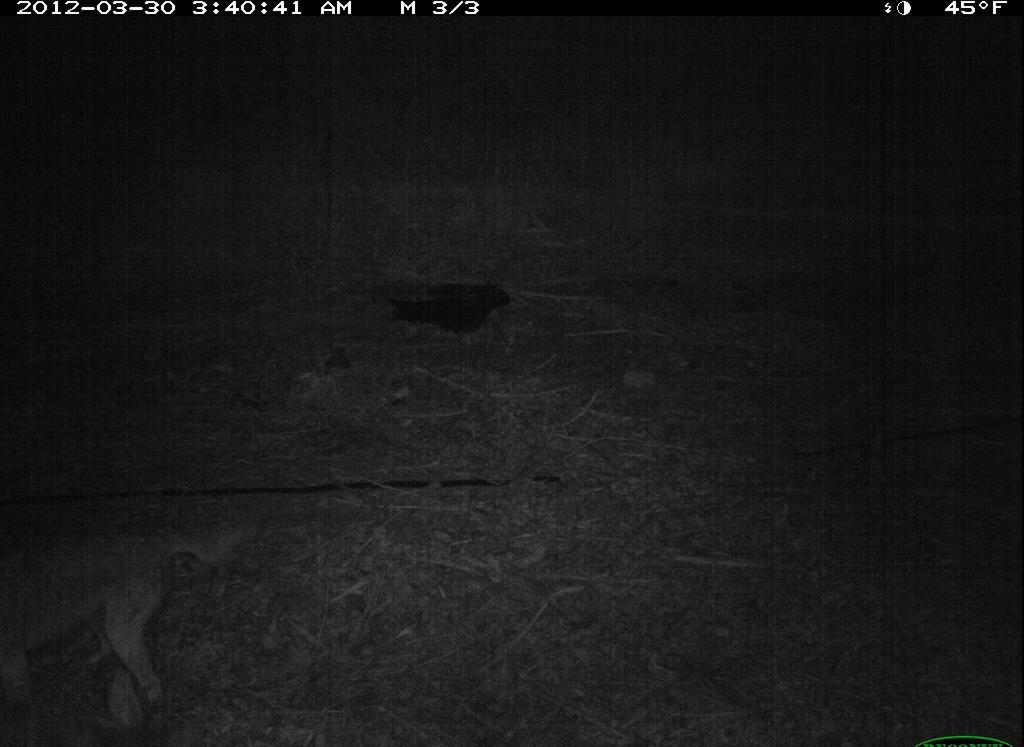coyote: (4, 504, 265, 737)
